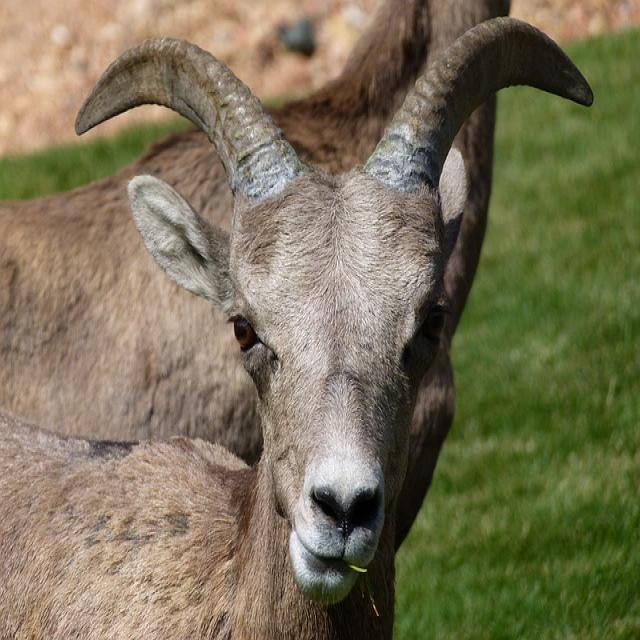goat: (0, 17, 592, 636), (0, 128, 261, 461), (269, 0, 509, 173), (398, 100, 493, 532)
